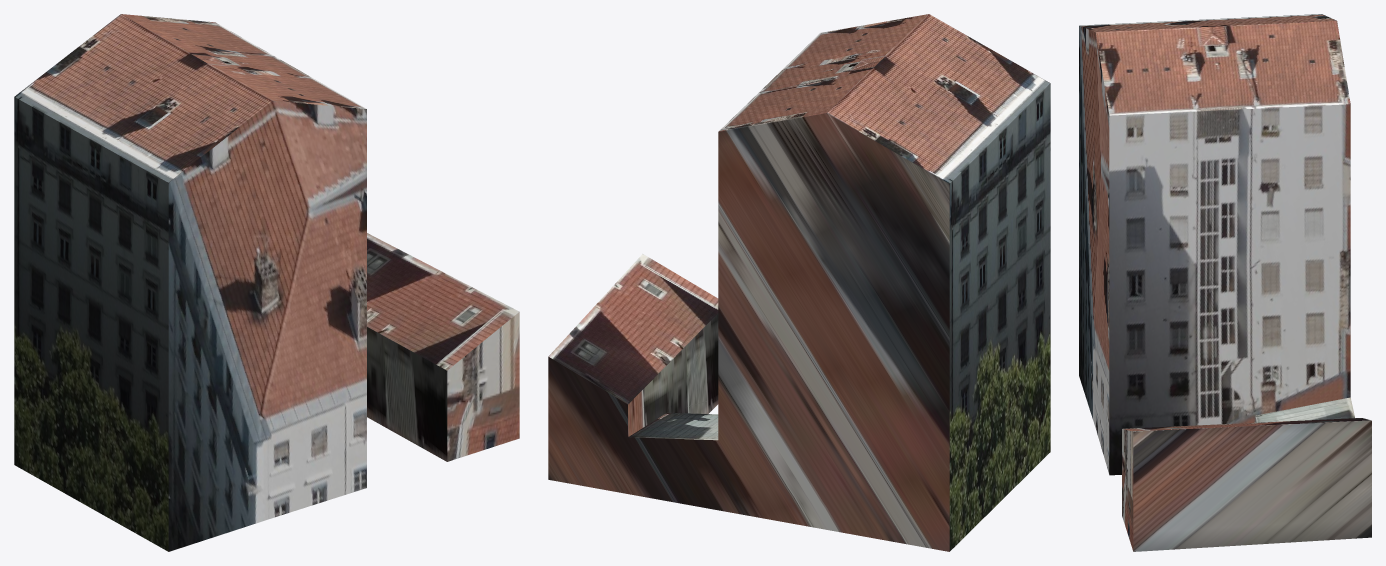
3 renders of one model, left to right at view 1: azimuth 30°, elevation 25°; view 2: azimuth 150°, elevation 25°; view 3: azimuth 270°, elevation 25°, orthographic. The views are drawn at different scales.
Visible parts, largest first — view 1: Z_UP; view 2: Z_UP; view 3: Z_UP.
Part boxes in pixels (x1,y1,x2,y2): Z_UP: (14,14,519,551); Z_UP: (548,14,1050,551); Z_UP: (1079,14,1371,551).
Size of the model in its own units: 30.12 by 29.56 by 19.79.
Materials: 2 (1 with a texture image).
